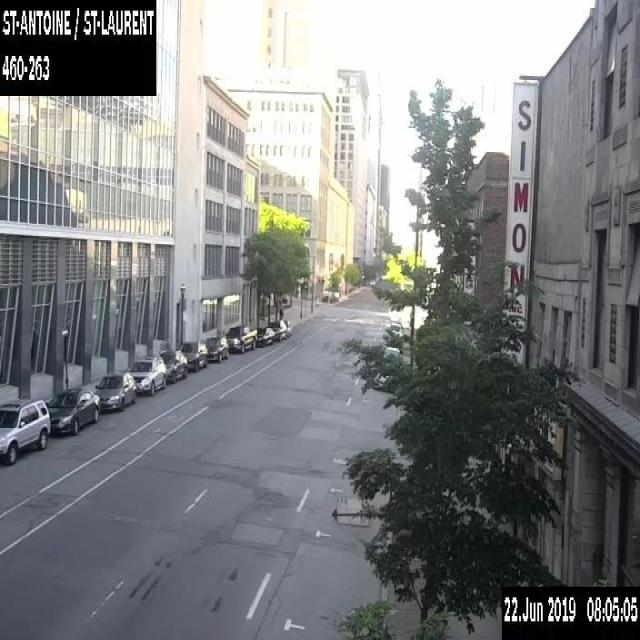vehicle: (0, 398, 50, 463), (44, 387, 100, 434), (94, 370, 136, 411), (128, 356, 166, 394), (159, 349, 187, 382), (224, 324, 256, 352), (180, 339, 207, 371), (205, 335, 228, 361), (371, 371, 395, 392), (266, 318, 286, 341), (254, 326, 274, 346), (382, 345, 400, 366), (389, 322, 402, 336), (282, 318, 291, 336), (389, 314, 402, 326)
